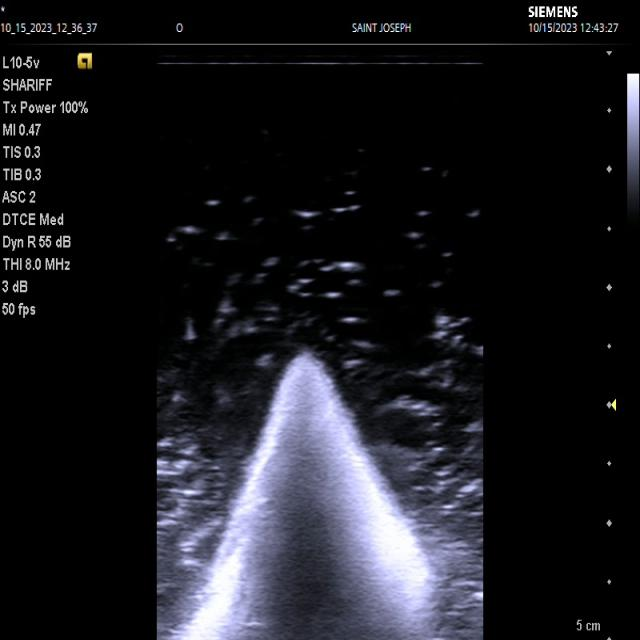tissue: (180, 352, 430, 637)
